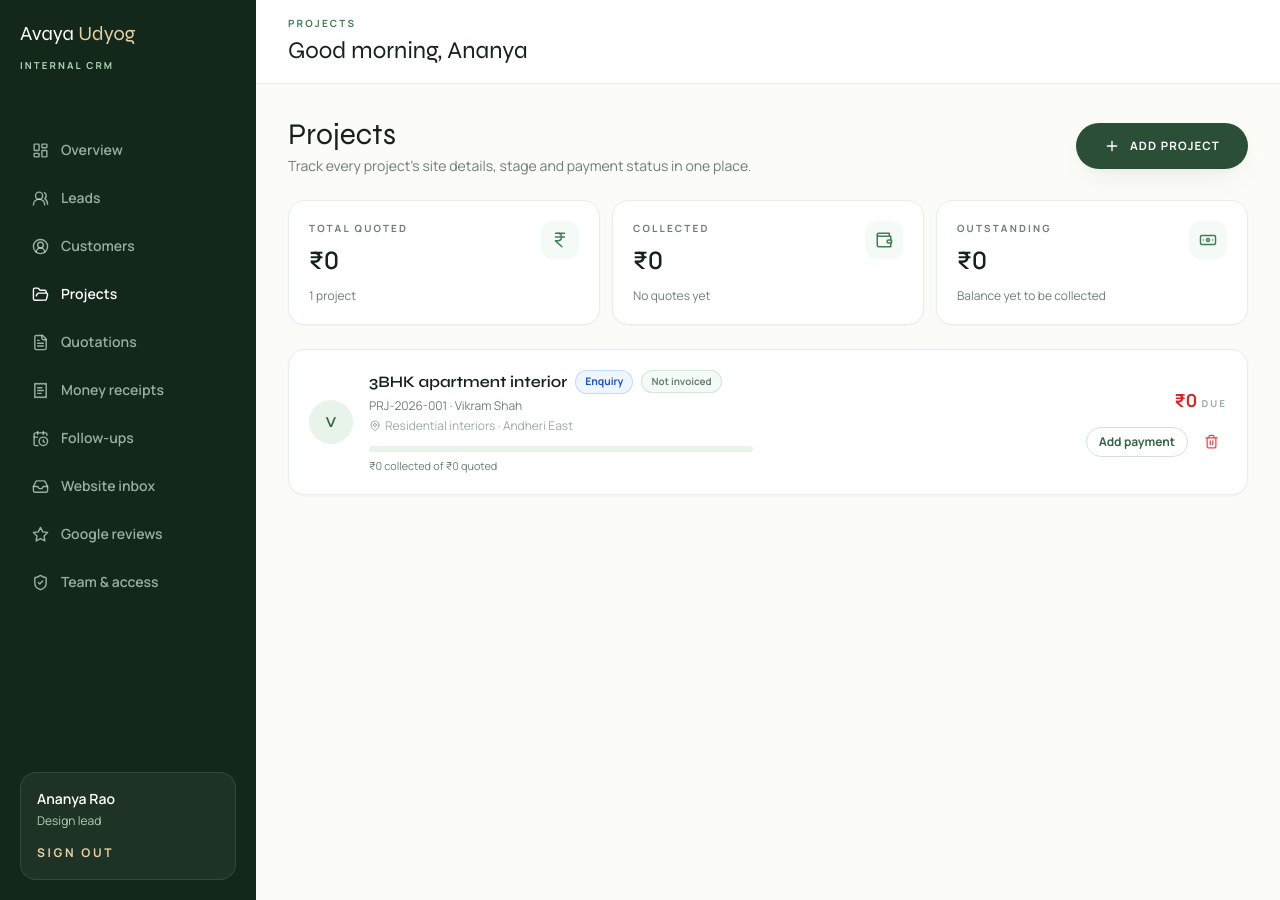
Scenario: Employee project pipeline › shows the projects workspace with the fetched project and lets staff open the add-project form
Check: the heading "3BHK apartment interior" is shown, box [369,370,567,394]
Check: the text "PRJ-2026-001 · Vikram Shah" is shown, box [369,397,522,414]
Click the button "Add project".
click(1162, 146)  # box [1076,123,1248,168]
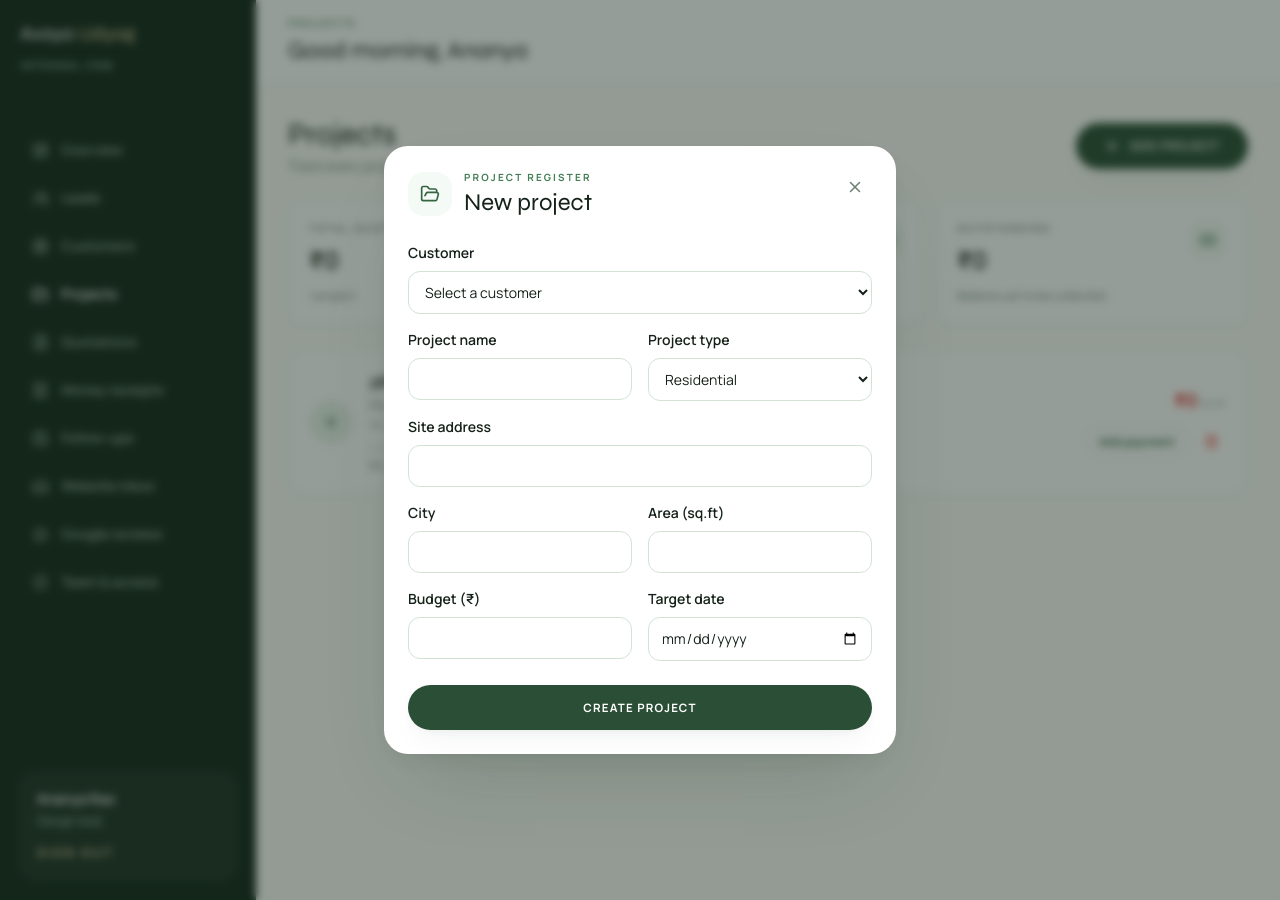
Check: the heading "New project" is shown, box [464,187,592,219]
